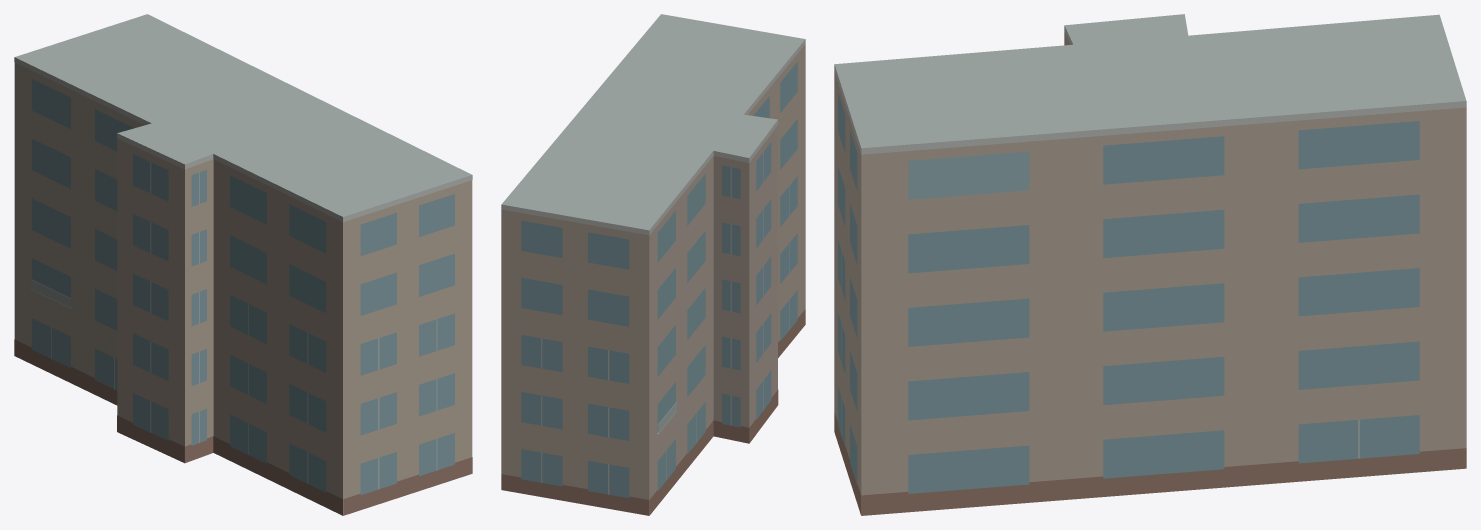
The model's file is survey-upis-33037230.glb.
3 renders of one model, left to right at view 1: azimuth 30°, elevation 25°; view 2: azimuth 150°, elevation 25°; view 3: azimuth 270°, elevation 25°, orthographic. The views are drawn at different scales.
Parts seen in each view (by area): view 1: survey-upis-33037230.tmp; view 2: survey-upis-33037230.tmp; view 3: survey-upis-33037230.tmp.
Part boxes in pixels (left/top/right/bottom): survey-upis-33037230.tmp: left=14, top=14, right=472, bottom=515; survey-upis-33037230.tmp: left=501, top=14, right=805, bottom=515; survey-upis-33037230.tmp: left=834, top=14, right=1466, bottom=515.
Bounding box in the file's own units: 10.98 × 14 × 21.83.
